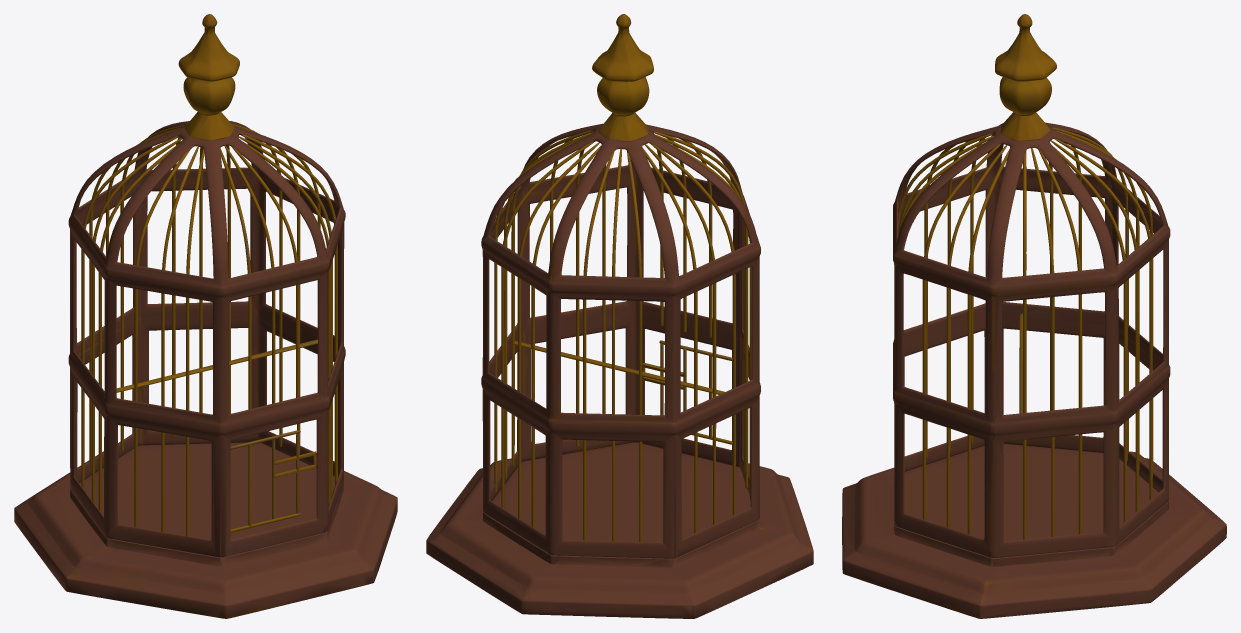
Rendered from birdcage.glb.
3 views of the same model, side by side, from view 1: azimuth 30°, elevation 25°; view 2: azimuth 150°, elevation 25°; view 3: azimuth 270°, elevation 25° (orthographic).
Visible parts, largest first — view 1: Object_6; view 2: Object_6; view 3: Object_6.
Boxes of the visible parts, x1,y1,x2,y2 form: Object_6: (14, 14, 397, 618); Object_6: (426, 14, 813, 618); Object_6: (842, 14, 1226, 618).
Size of the model in its own units: 99.99 by 150 by 99.99.
1 material, 1 textured.
